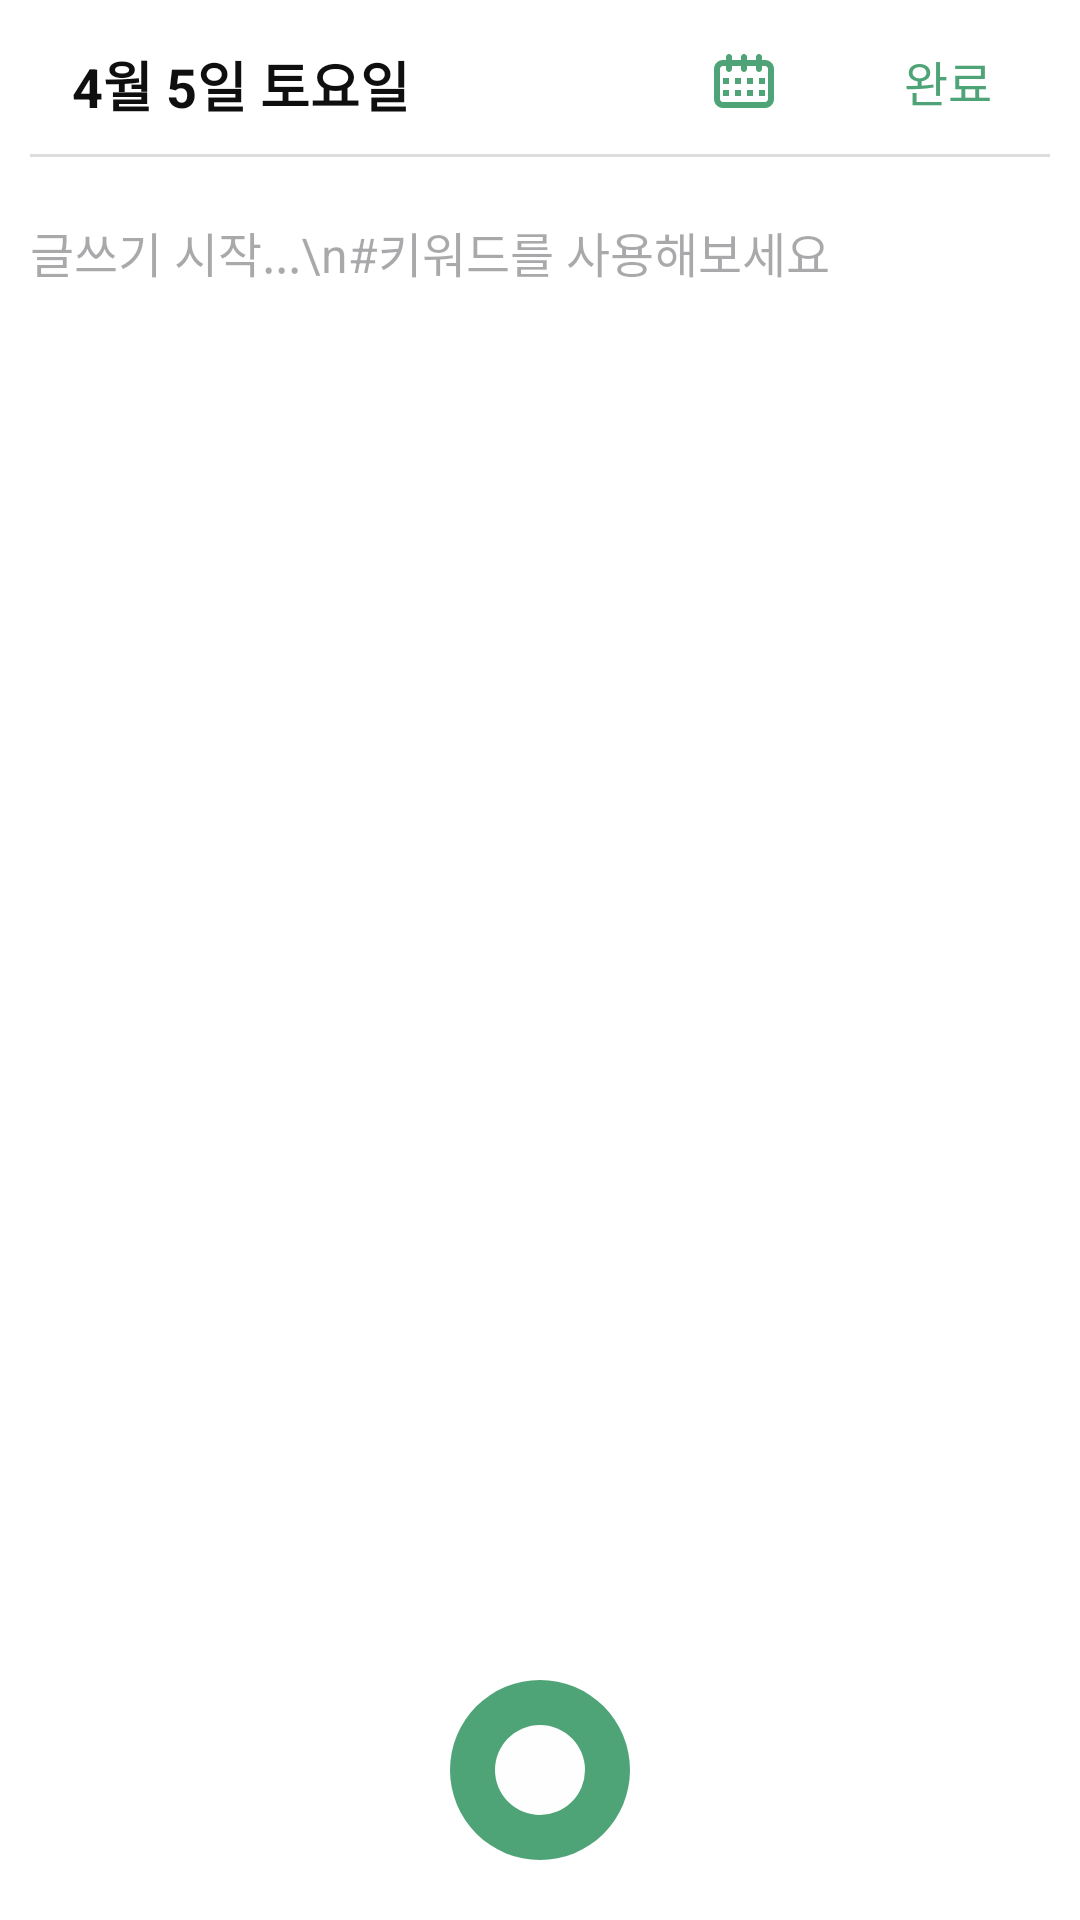

Screen size 1080 × 1920. Icon name, then its center in pixels as (x=x, y=y):
캘린더 열기: (x=744, y=81)
